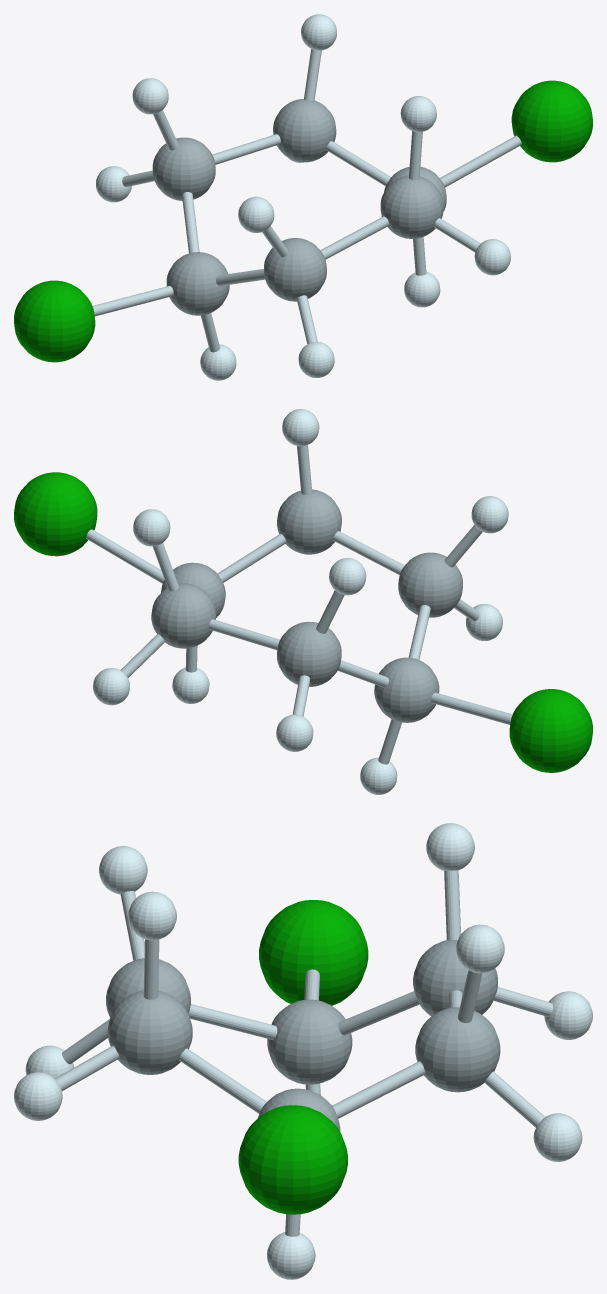
The model's file is irc_step_216.glb.
The picture shows the model from 3 angles, top to bottom: view 1: azimuth 30°, elevation 25°; view 2: azimuth 150°, elevation 25°; view 3: azimuth 270°, elevation 25°; orthographic projection. The views are drawn at different scales.
Visible parts, largest first — view 1: Renderer Node; view 2: Renderer Node; view 3: Renderer Node.
Part boxes in pixels (x1=…): Renderer Node: x1=14, y1=14, x2=592, y2=380; Renderer Node: x1=14, y1=409, x2=592, y2=794; Renderer Node: x1=14, y1=823, x2=592, y2=1279.
Size of the model in its own units: 7.11 by 3.55 by 4.75.
